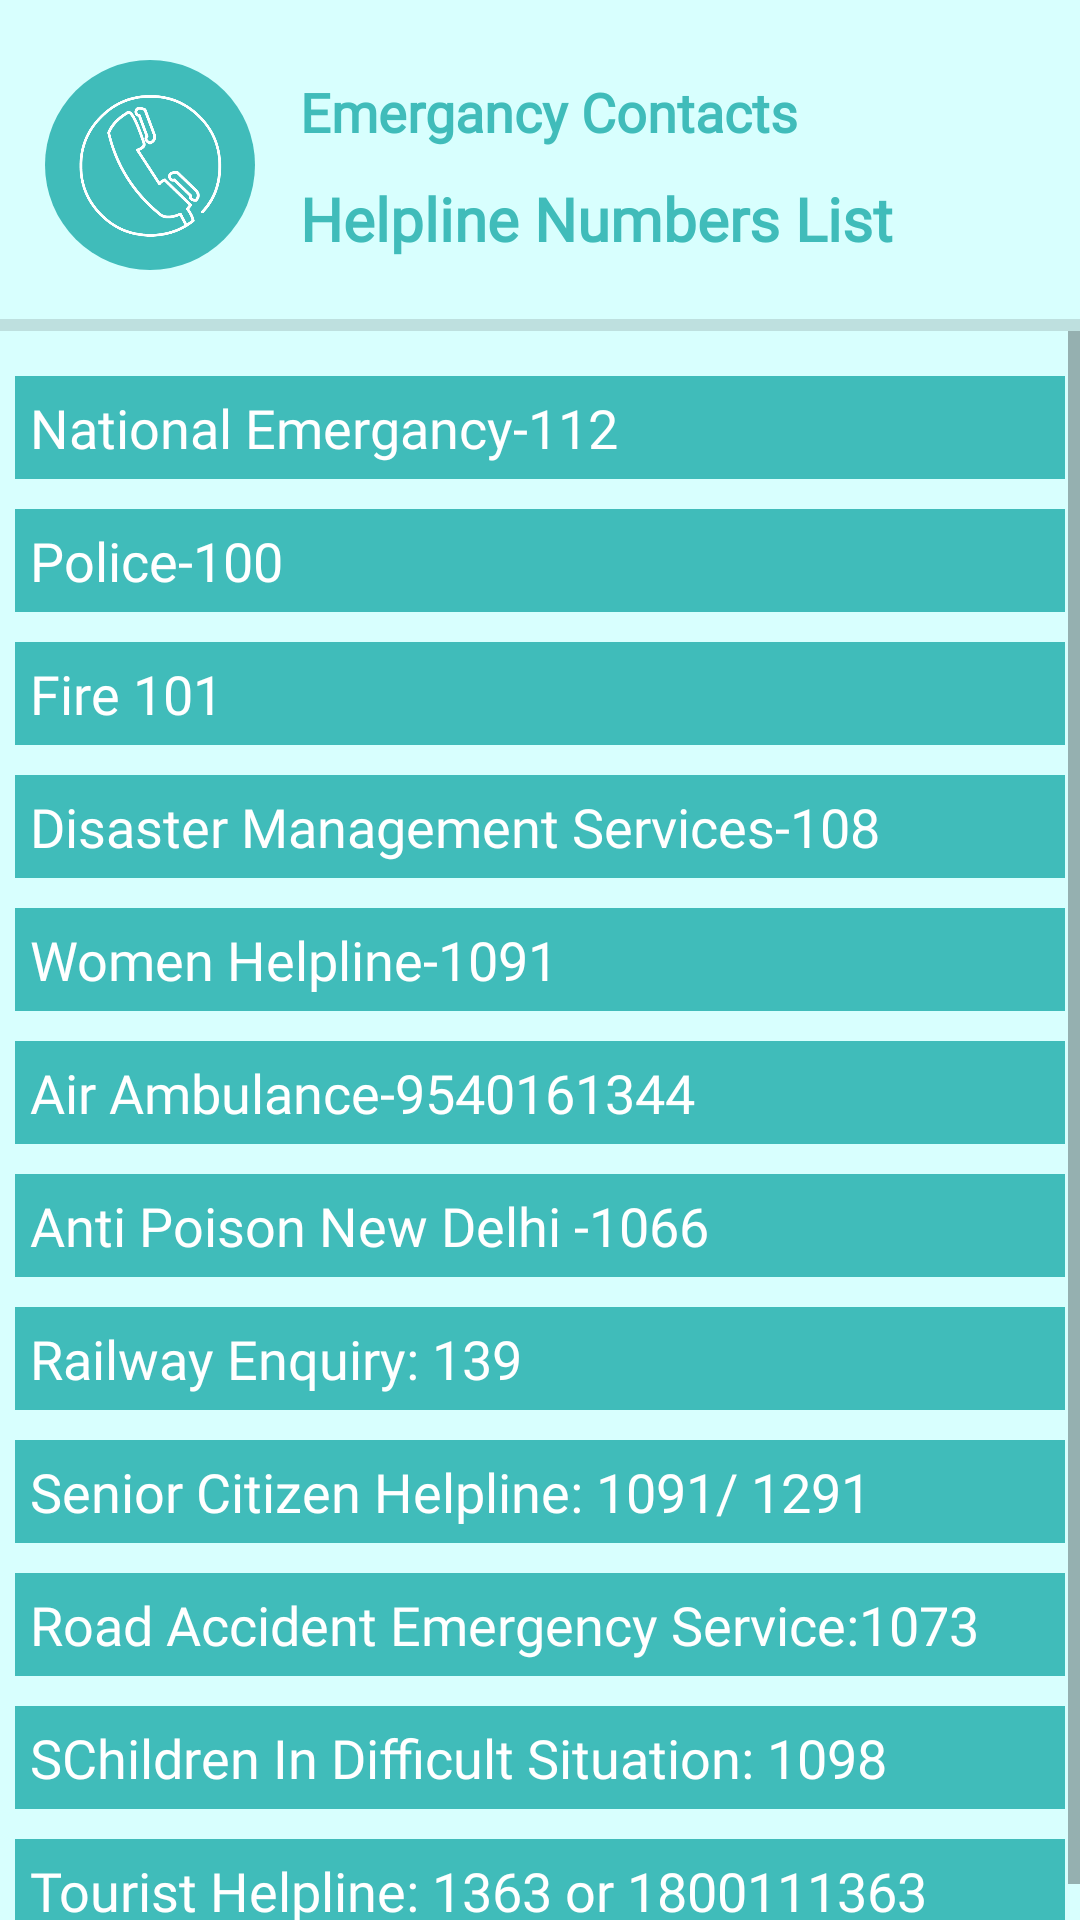

Point at icon controls on the screen. Image size 1080 x 1920, points as (x,y).
phone: (150,165)
